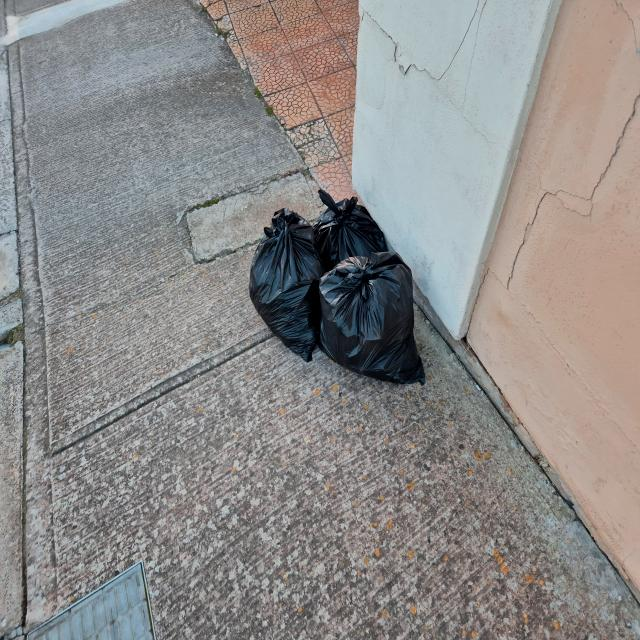black_bag: (319, 255, 436, 395), (252, 191, 326, 364), (310, 177, 400, 270)
